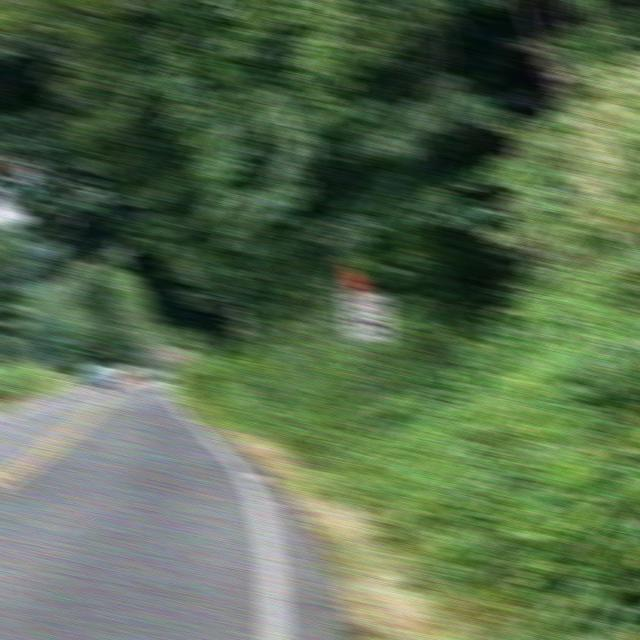speedLimit35: (337, 286, 394, 344)
